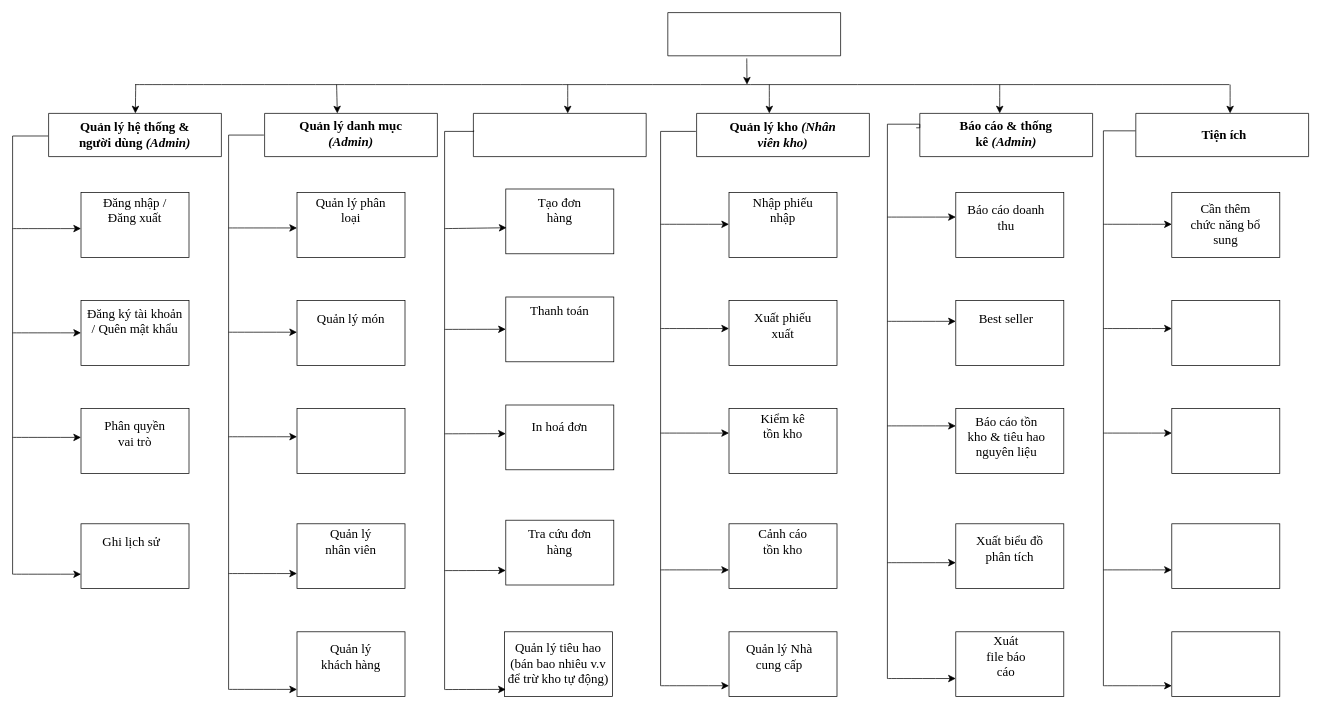
This 1321x709 diagram has some shape labels left out. Here are the shapes that lost their labels. From the top down, the centre of each, then its label:
point (754, 34): Quản lý cửa hàng bánh mì
point (559, 135): Quản lý bán hàng (Staff)
point (350, 440): Quản lý giá & khuyến mãi
